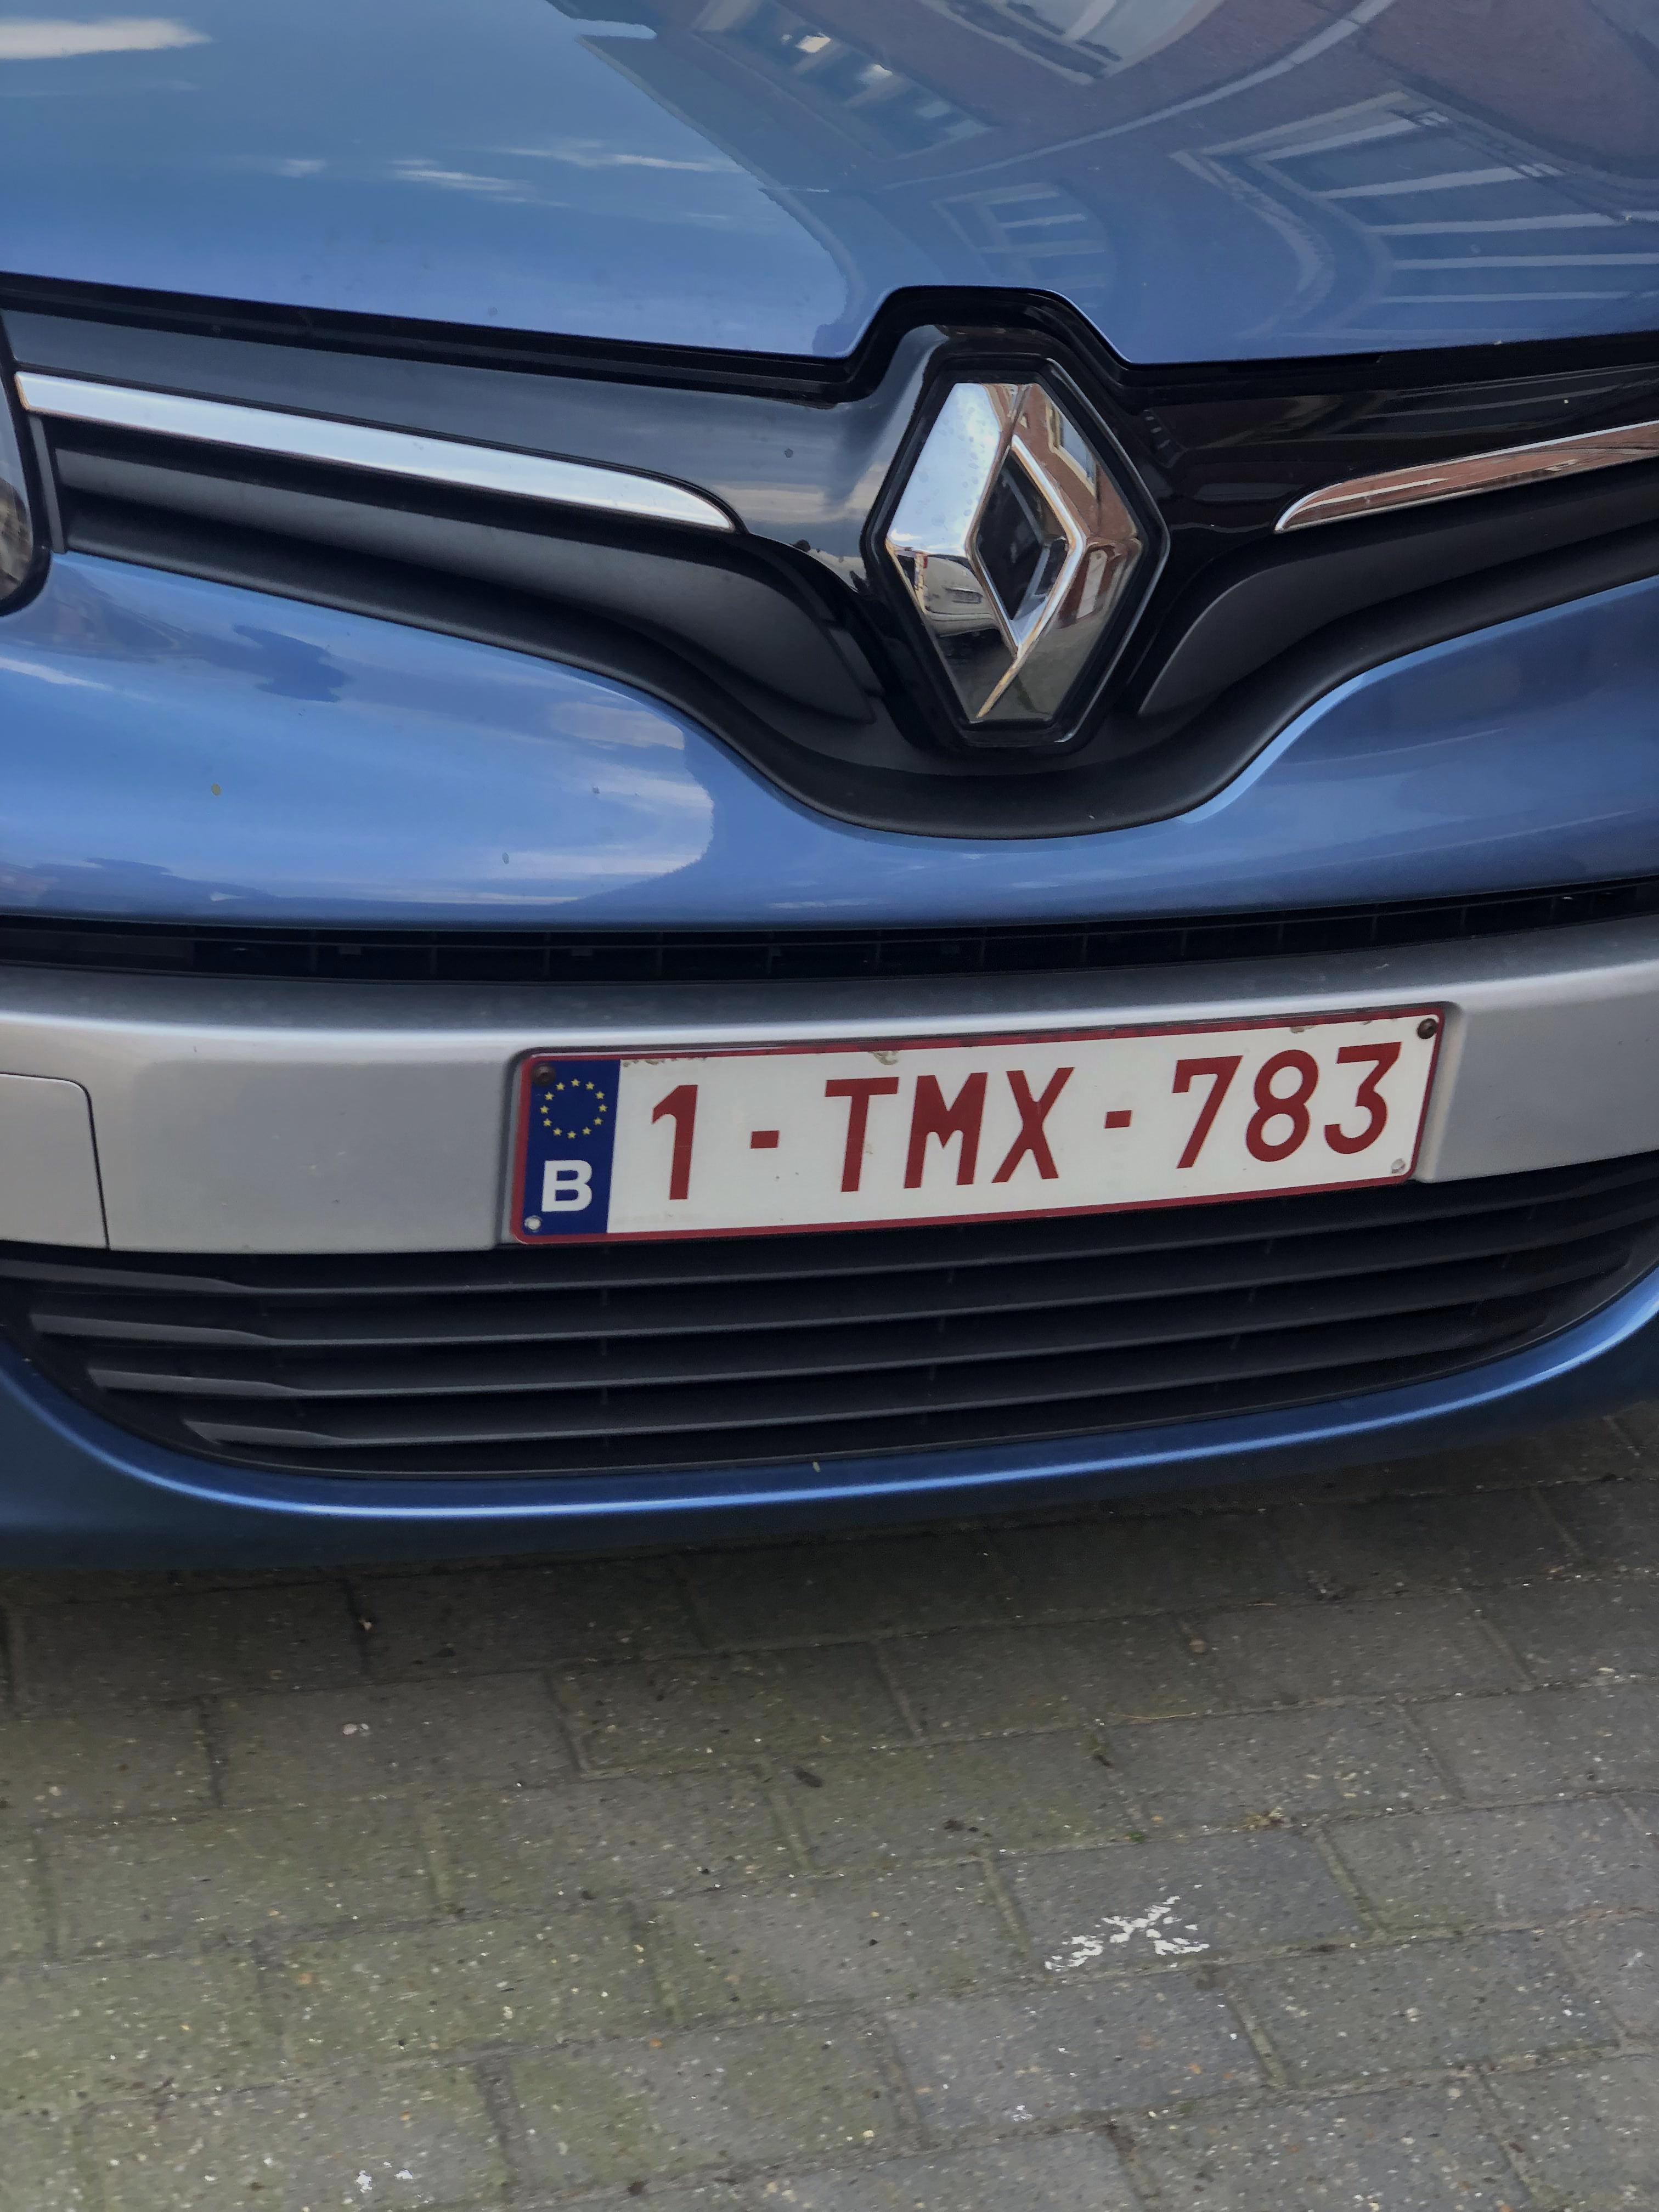plate: (478, 995, 1454, 1258)
